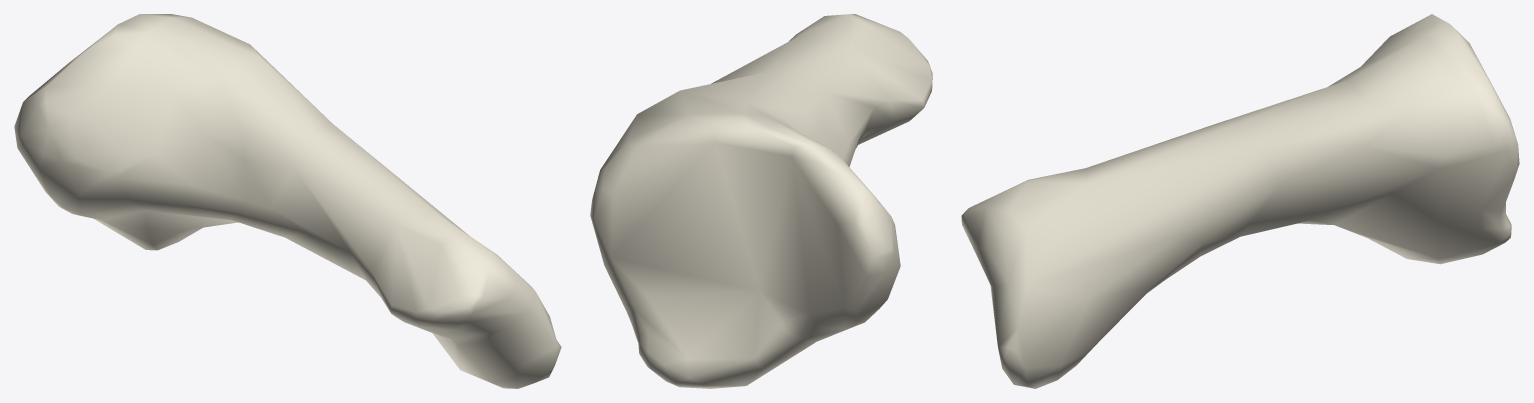
The picture shows the model from 3 angles, left to right: view 1: azimuth 30°, elevation 25°; view 2: azimuth 150°, elevation 25°; view 3: azimuth 270°, elevation 25°; orthographic projection. The views are drawn at different scales.
Parts seen in each view (by area): view 1: ZA_73d870dff5ab905d; view 2: ZA_73d870dff5ab905d; view 3: ZA_73d870dff5ab905d.
Boxes of the visible parts, x1=… form: ZA_73d870dff5ab905d: x1=14, y1=14, x2=561, y2=388; ZA_73d870dff5ab905d: x1=590, y1=14, x2=932, y2=388; ZA_73d870dff5ab905d: x1=961, y1=14, x2=1519, y2=388.
Bounding box in the file's own units: 0.0181 × 0.0138 × 0.026.
